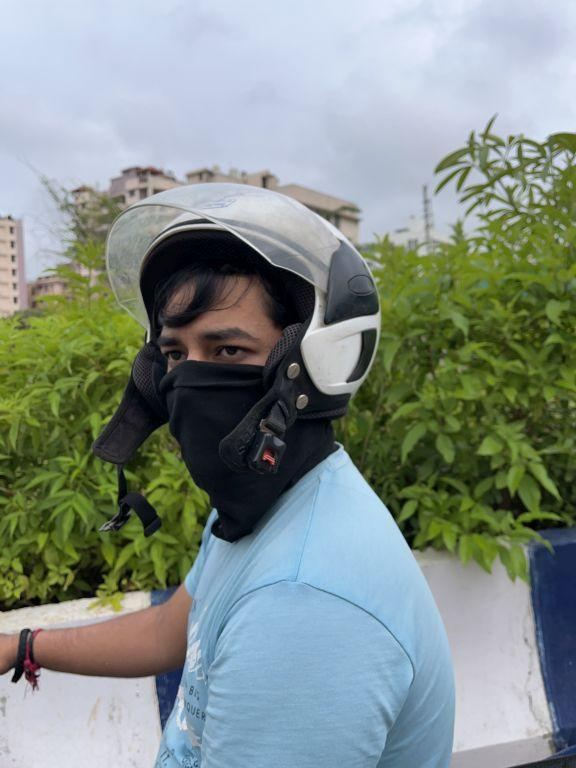helmet: (85, 174, 398, 442)
